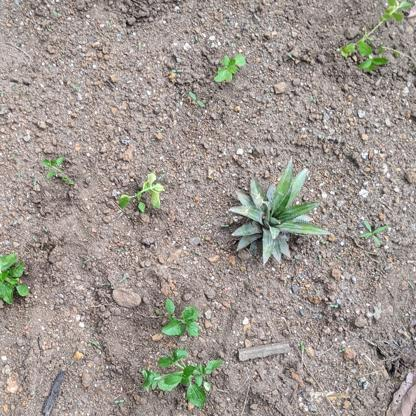pineapple: (229, 159, 331, 265)
weed: (136, 349, 232, 408), (343, 5, 416, 72), (118, 171, 167, 215), (1, 250, 33, 311), (160, 298, 204, 339), (39, 149, 81, 187), (212, 50, 249, 85)
